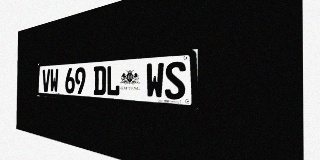6: (65, 68, 75, 94)
9: (75, 67, 86, 94)
D: (93, 66, 106, 95)
L: (106, 65, 120, 96)
S: (165, 61, 186, 100)
V: (42, 69, 50, 92)
W: (146, 62, 164, 99), (50, 69, 58, 93)
